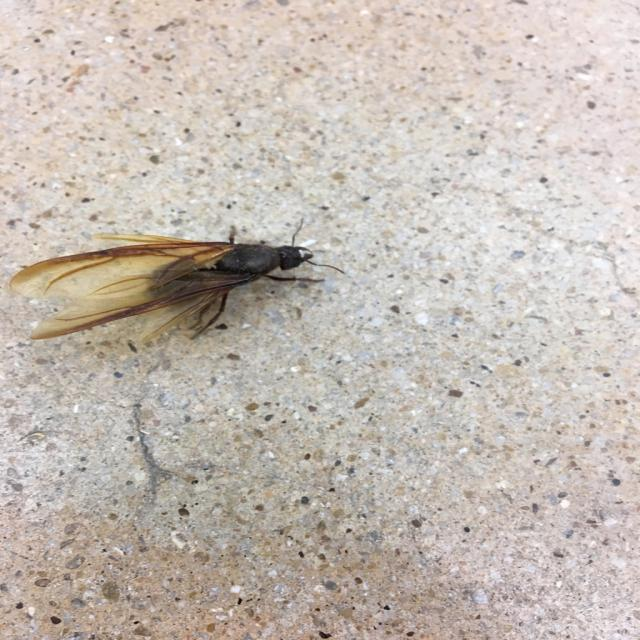Alive-Female-Alate: (9, 218, 346, 344)
